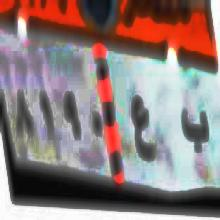0: (88, 102, 107, 148)
1: (39, 88, 56, 142)
8: (15, 84, 35, 152)
9: (63, 87, 82, 140)
ain: (128, 90, 156, 167)
baa: (180, 100, 209, 155)
